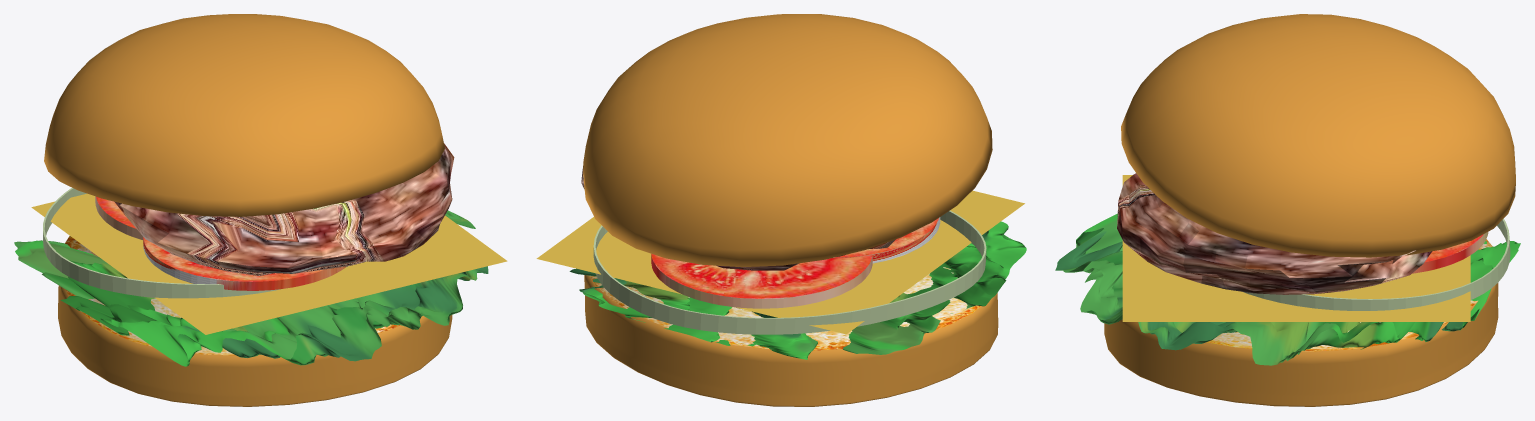
The model's file is BURGERFIXX.fbx.
3 views of the same model, side by side, from view 1: azimuth 30°, elevation 25°; view 2: azimuth 150°, elevation 25°; view 3: azimuth 270°, elevation 25° (orthographic). The views are drawn at different scales.
Visible parts, largest first — view 1: Cube.001, Cube.002, Sphere.001, Plane.004, Plane.002, Circle.002, Cylinder.005, Cylinder.004; view 2: Cube.001, Cube.002, Plane.002, Plane.004, Cylinder.004, Circle.002, Cylinder.005, Sphere.001; view 3: Cube.001, Cube.002, Sphere.001, Plane.004, Plane.002, Circle.002, Cylinder.004.
Part boxes in pixels (x1,y1,x2,y2): Cube.001: (44,14,444,216); Cube.002: (58,236,452,406); Sphere.001: (114,143,454,275); Plane.004: (14,210,488,366); Plane.002: (31,193,507,334); Circle.002: (43,187,348,298); Cylinder.005: (143,237,346,290); Cylinder.004: (95,196,143,239); Cube.001: (583,14,992,267); Cube.002: (584,267,998,406); Plane.002: (536,190,1024,334); Plane.004: (569,221,1026,359); Cylinder.004: (651,253,872,308); Circle.002: (593,210,986,334); Cylinder.005: (832,217,940,263); Sphere.001: (581,166,895,270); Cube.001: (1121,14,1515,257); Cube.002: (1104,239,1498,406); Sphere.001: (1117,173,1431,294); Plane.004: (1055,213,1520,365); Plane.002: (1122,175,1470,321); Circle.002: (1242,218,1510,310); Cylinder.004: (1412,232,1488,273).
Bounding box in the file's own units: 213 × 144 × 219.
7 materials, 4 textured.
